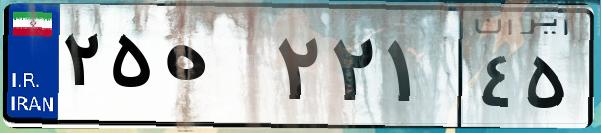1: (385, 28, 445, 110)
2: (270, 28, 330, 110), (330, 28, 385, 110), (57, 26, 110, 100)
4: (475, 38, 525, 113)
5: (525, 38, 570, 115), (110, 28, 158, 98)
ه: (158, 20, 270, 120)
